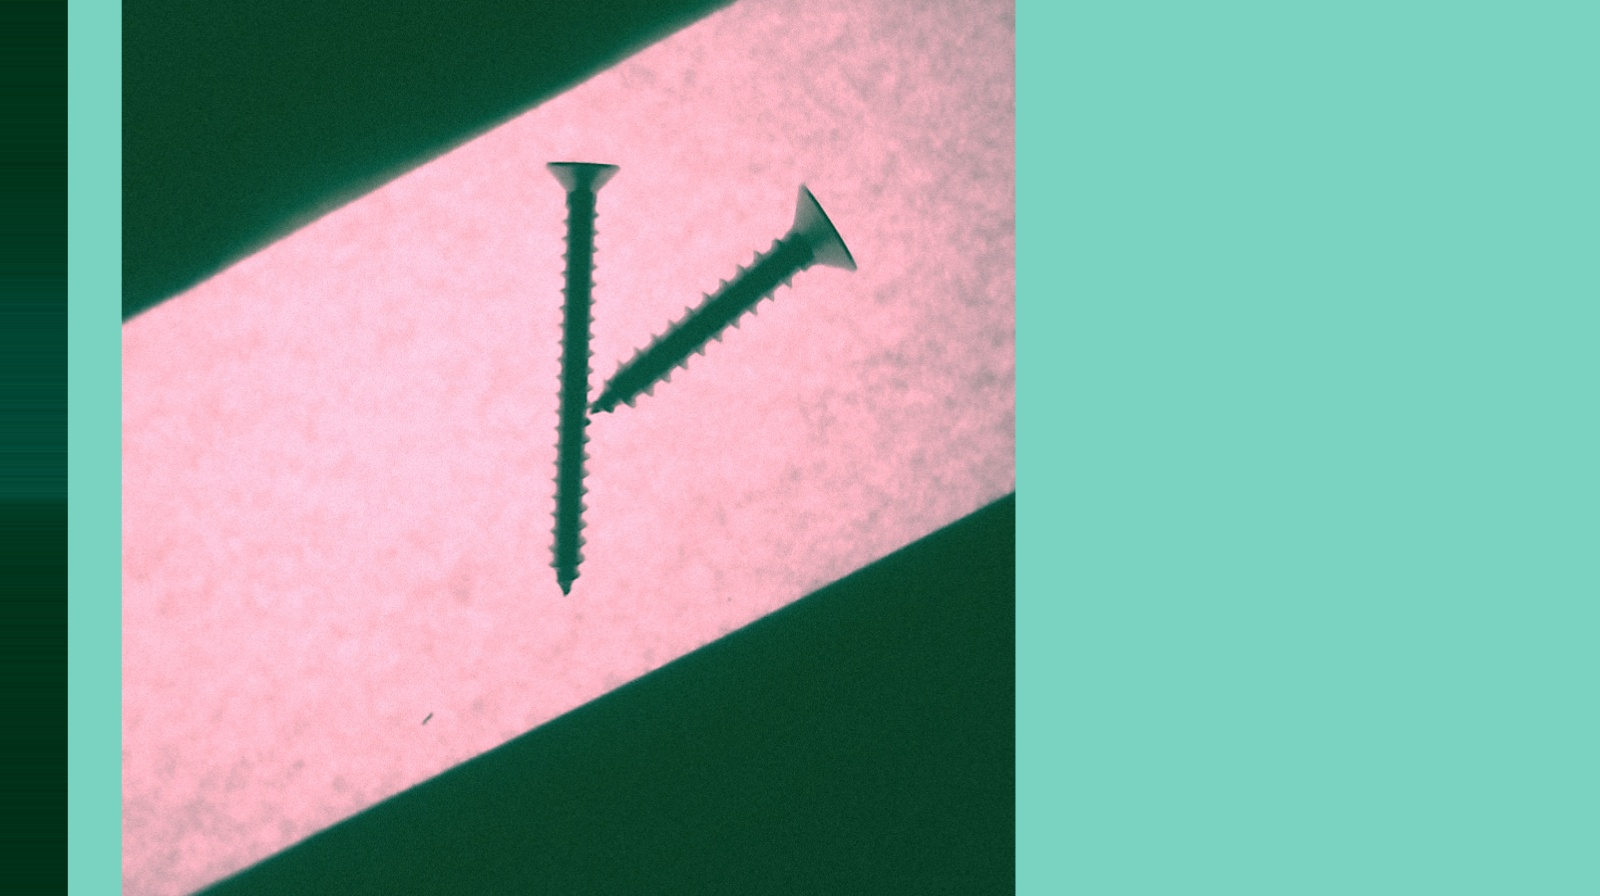S001: (592, 177, 860, 417)
S002: (544, 140, 624, 600)
